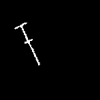double_crochet: (15, 23, 39, 64)
